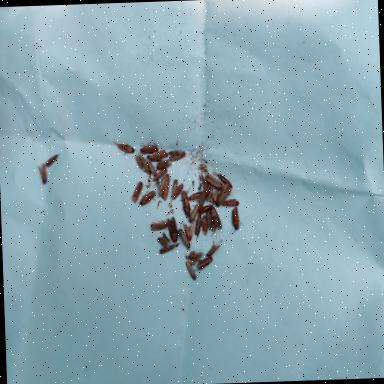pbw: (112, 138, 138, 155), (215, 182, 232, 208), (229, 206, 244, 234), (209, 204, 222, 236), (180, 186, 192, 218), (205, 172, 223, 190), (158, 173, 170, 200), (214, 170, 232, 188), (130, 180, 144, 202), (205, 239, 222, 257), (182, 217, 195, 240), (158, 242, 182, 254), (178, 226, 190, 250), (167, 215, 178, 241), (184, 260, 198, 280), (138, 152, 150, 175), (140, 188, 156, 205), (139, 140, 158, 154), (148, 218, 168, 230), (196, 255, 213, 269), (194, 214, 202, 242), (38, 162, 48, 184), (187, 204, 199, 222), (168, 149, 186, 161), (172, 182, 184, 200), (170, 178, 178, 204), (134, 150, 144, 170), (156, 158, 172, 170), (152, 168, 168, 180), (147, 158, 157, 176), (205, 180, 213, 202), (46, 154, 60, 166), (156, 236, 170, 248), (188, 190, 201, 202), (198, 203, 212, 214), (187, 251, 204, 260), (222, 198, 239, 206), (202, 214, 208, 236), (152, 150, 168, 158), (198, 191, 206, 206), (212, 188, 219, 204), (145, 154, 160, 161), (206, 210, 210, 230), (202, 182, 207, 194)
